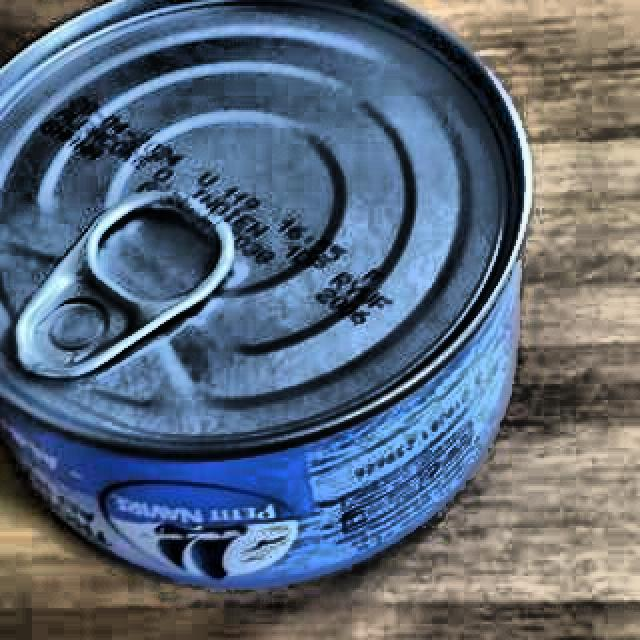metal: (0, 0, 566, 586)
